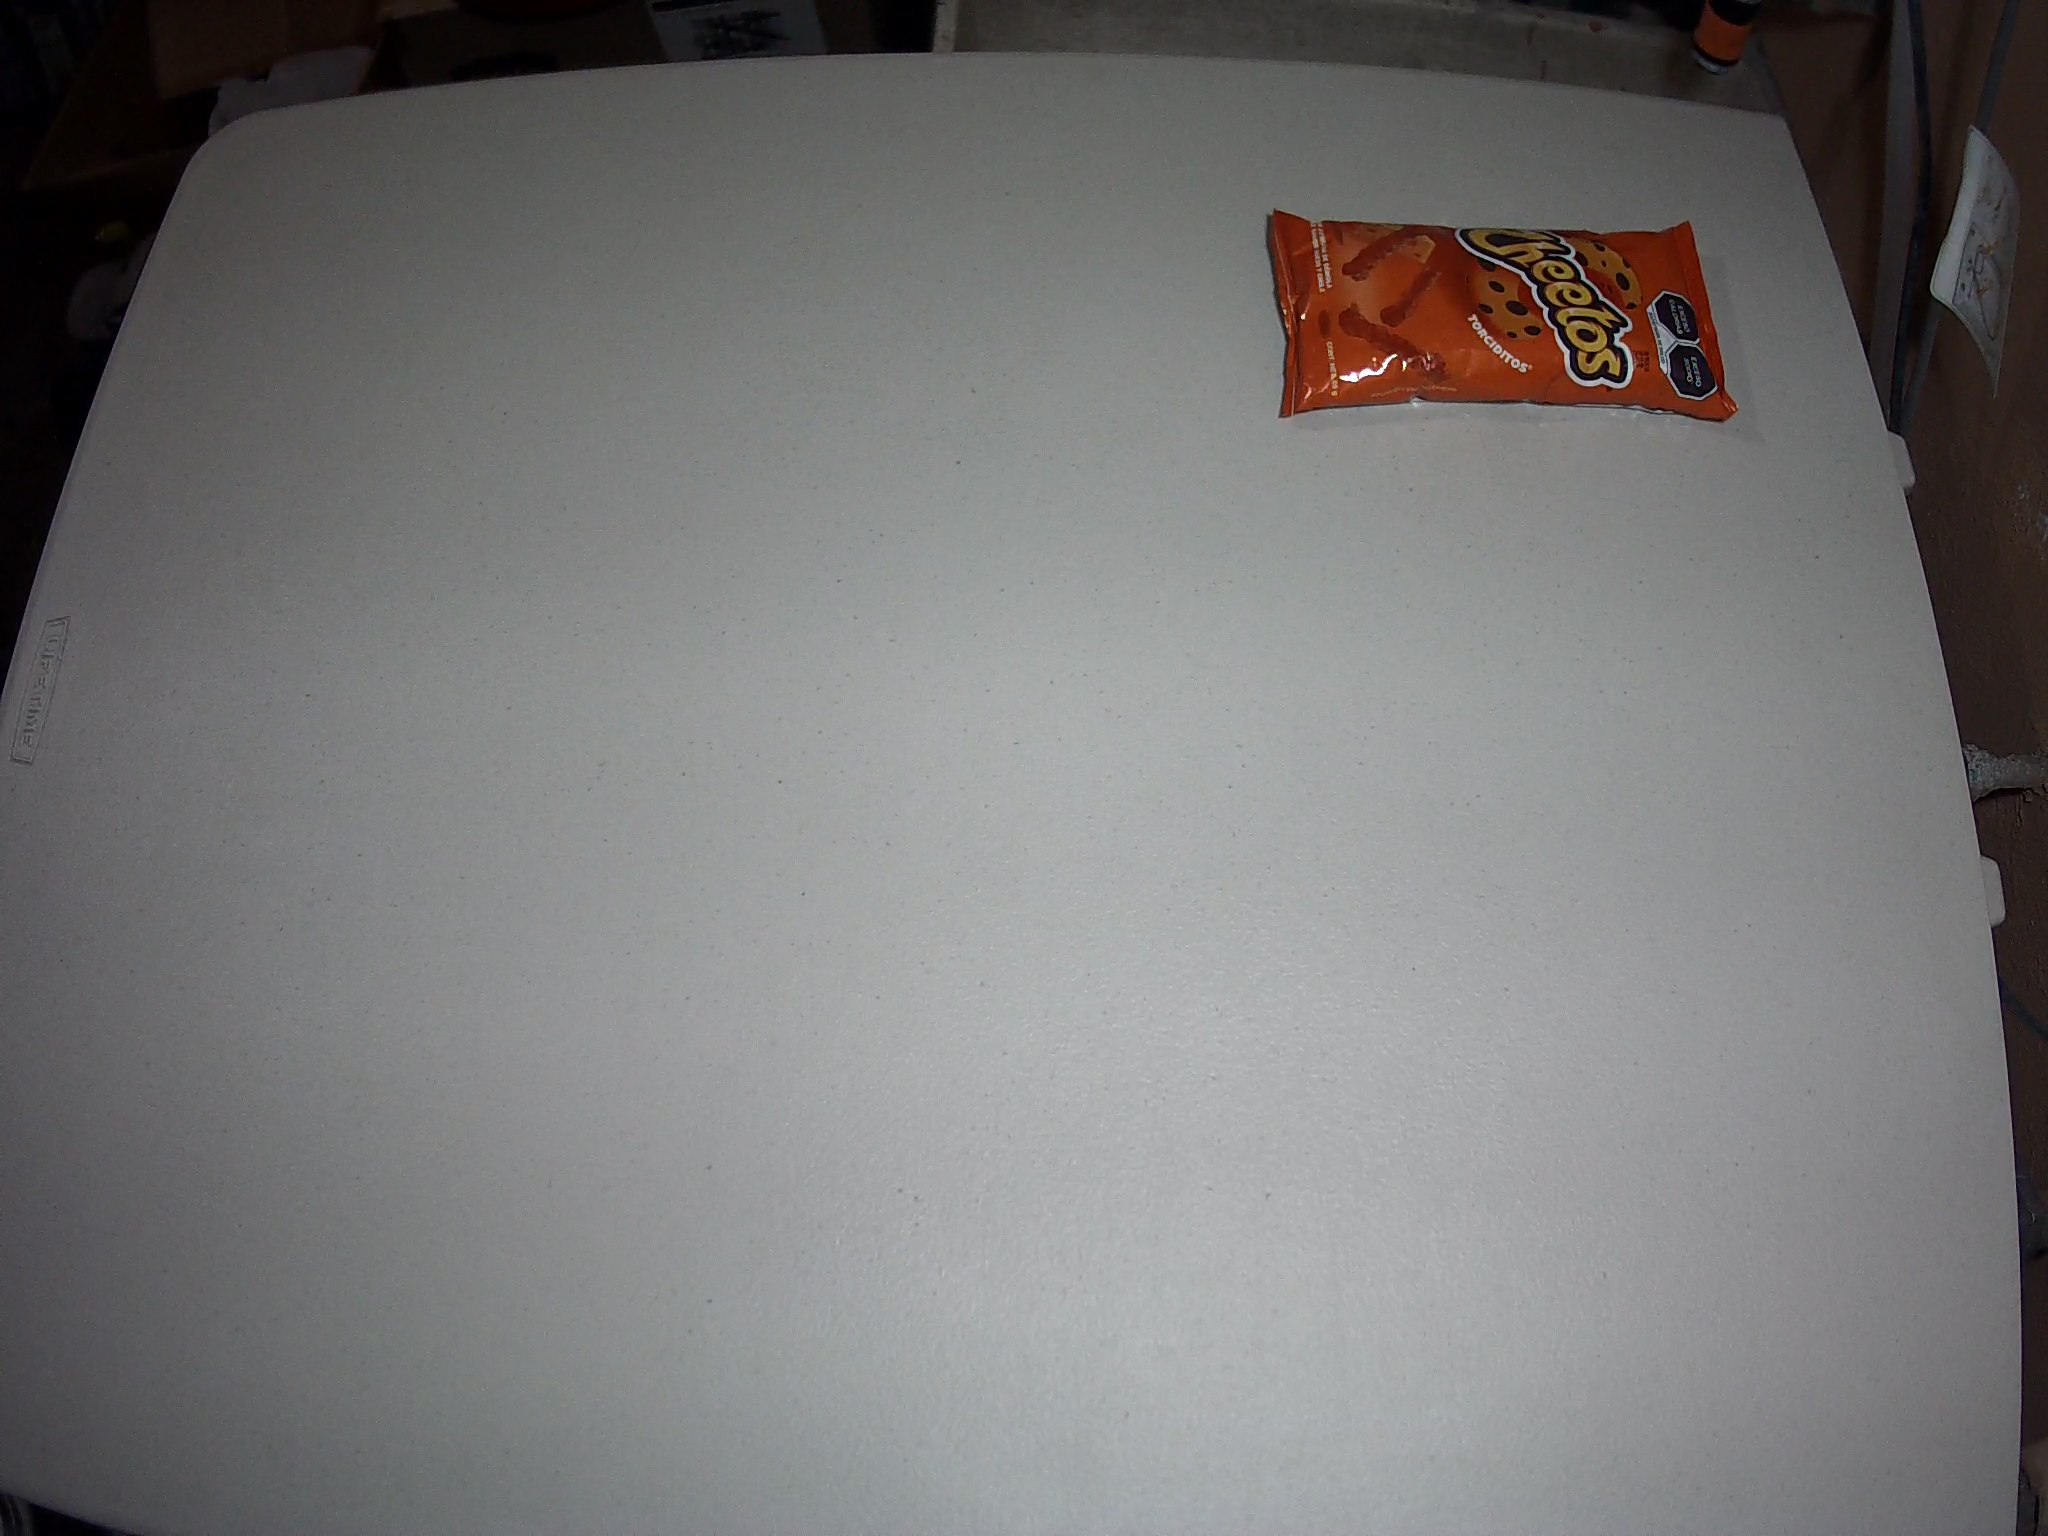CheetosTorciditos_55_F: (1268, 210, 1742, 423)
